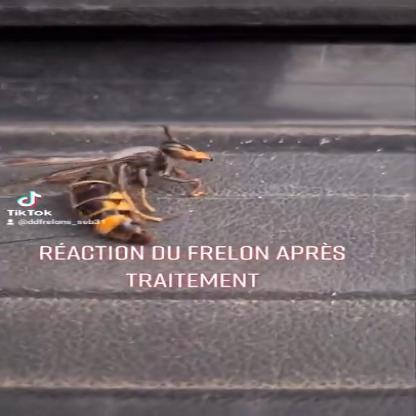hornet: (48, 126, 243, 241)
